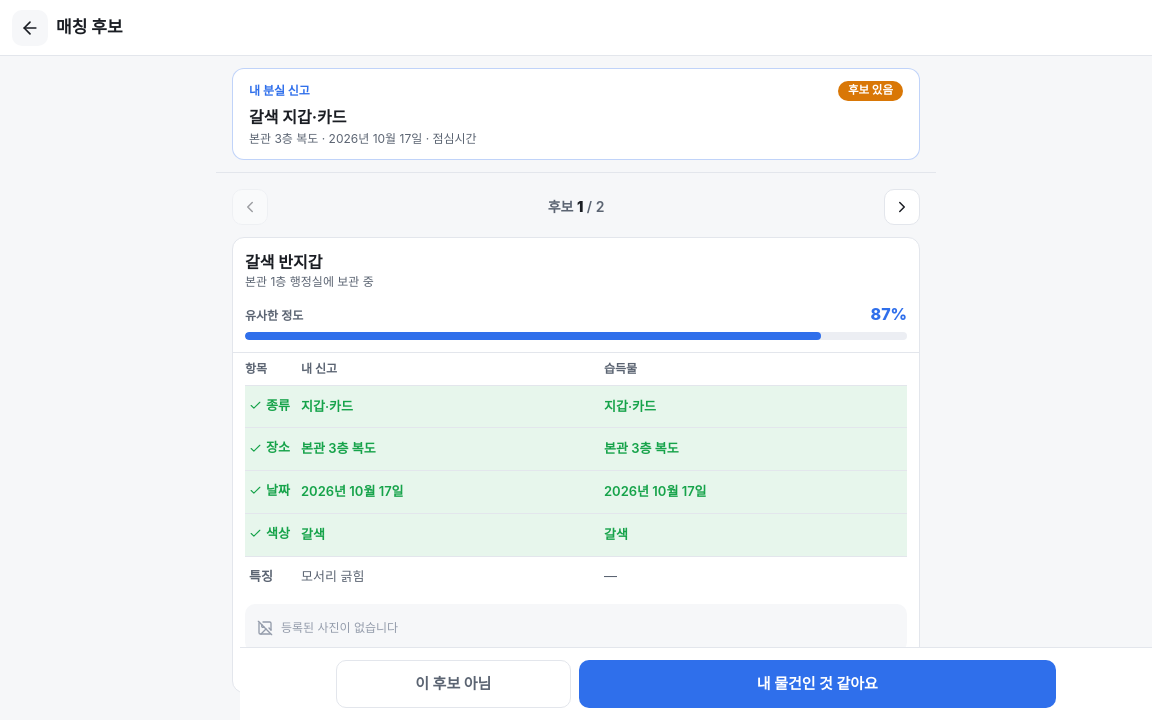
Test: MatchesPage › 항목별 일치/불일치 표시와 유사도 막대 폭이 score 에 비례
This screenshot has width=1152, height=720.
Check: the number of icons named "일치" is 4, box [249, 399, 262, 412]; [249, 442, 262, 454]; [249, 484, 262, 497]; [249, 527, 262, 540]
Click the button named "다음 후보" at [902, 206], box [884, 188, 920, 224]
(page scrolled)
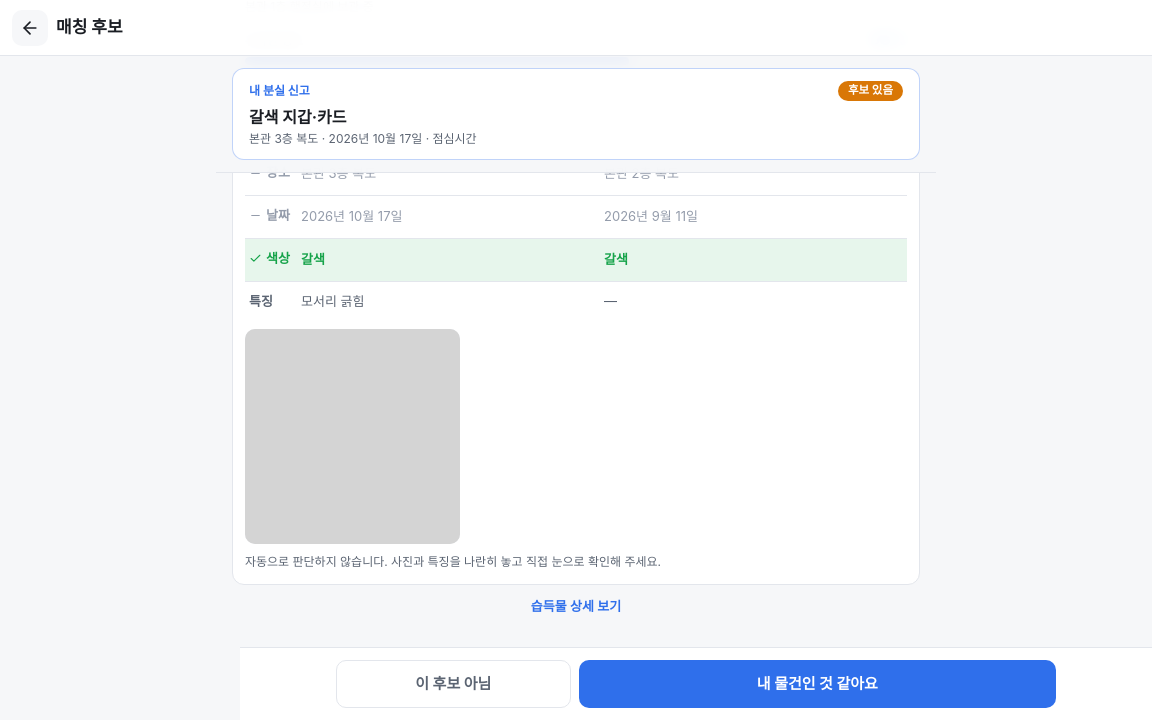
Check: the text "자동으로 판단하지 않습니다. 사진과 특징을 나란히 놓고 직접 눈으로 확인해 주세요." is shown, box [245, 554, 661, 569]
Check: the number of icons named "일치" is 2, box [249, 124, 262, 137]; [249, 252, 262, 265]
Check: the number of icons named "다름" is 2, box [249, 166, 262, 180]; [249, 209, 262, 222]
